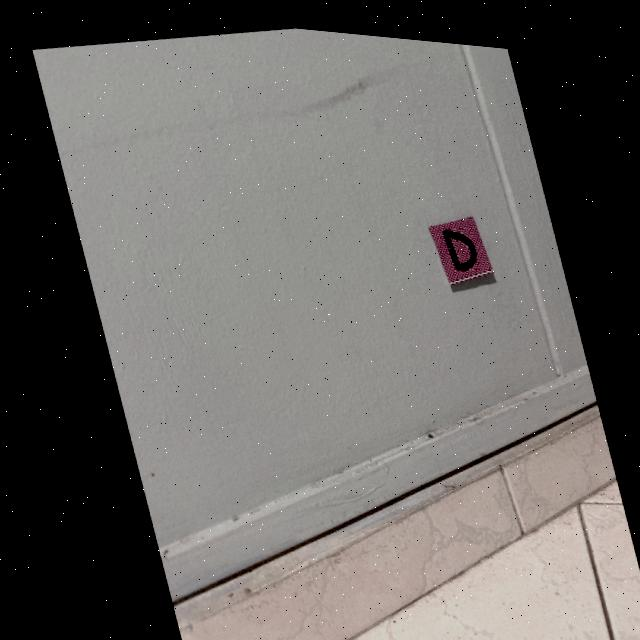D: (440, 221, 473, 261)
